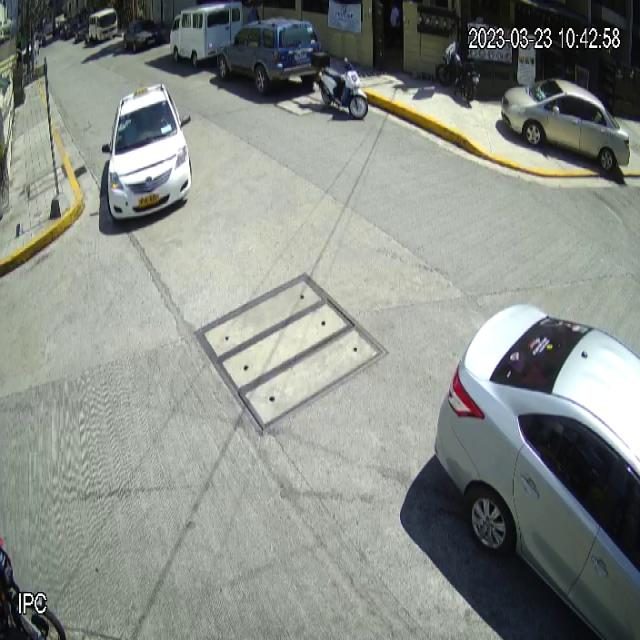Car: (432, 303, 640, 640), (101, 82, 192, 221), (500, 78, 630, 174), (218, 15, 322, 96)
Motorcycle: (310, 50, 369, 117)
Van: (169, 2, 244, 68)
